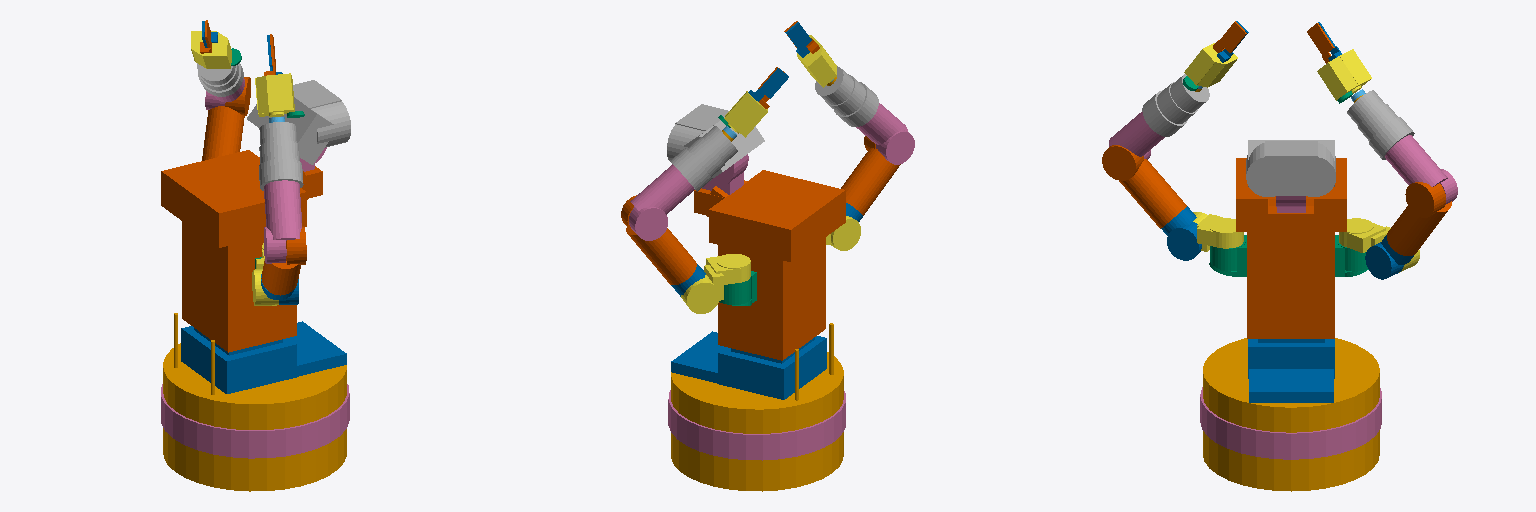
--- Render facts (derived) ---
Views: 3 orthographic renders of the robot side by side, from view 1: azimuth 30°, elevation 25°; view 2: azimuth 150°, elevation 25°; view 3: azimuth 270°, elevation 25°.
Model [local-path]/ros_projects/cohan_ws/src/CoHAN_Navigation/simulato with 90 links and 89 joints (16 revolute, 10 continuous, 5 prismatic, 58 fixed), rooted at base_link, posed every joint at zero.
Visible links, largest first — view 1: torso_lift_link, base_link, Torso, base_cover_link, head_2_link, arm_right_4_link, arm_right_5_link, arm_left_3_link, arm_right_3_link, right, arm_left_5_link, left (+1 smaller); view 2: torso_lift_link, base_link, Torso, base_cover_link, arm_left_4_link, head_2_link, TIAGo_left_arm, arm_left_5_link, arm_left_3_link, arm_right_5_link, arm_right_3_link, arm_right_4_link (+6 smaller); view 3: base_link, torso_lift_link, Torso, base_cover_link, head_2_link, arm_right_3_link, arm_left_3_link, arm_right_5_link, arm_left_5_link, arm_left_4_link, left, TIAGo_right_arm (+8 smaller).
Boxes of the visible links, bbox=[...] form: torso_lift_link: bbox=[161, 150, 322, 352]; base_link: bbox=[163, 313, 346, 491]; Torso: bbox=[181, 321, 346, 393]; base_cover_link: bbox=[161, 384, 349, 458]; head_2_link: bbox=[247, 80, 350, 164]; arm_right_4_link: bbox=[264, 180, 301, 263]; arm_right_5_link: bbox=[259, 122, 303, 190]; arm_left_3_link: bbox=[202, 77, 250, 160]; arm_right_3_link: bbox=[261, 226, 306, 295]; right: bbox=[255, 73, 294, 116]; arm_left_5_link: bbox=[197, 63, 243, 96]; left: bbox=[191, 31, 231, 68]; torso_lift_link: bbox=[694, 170, 845, 360]; base_link: bbox=[671, 323, 843, 491]; Torso: bbox=[671, 331, 826, 399]; base_cover_link: bbox=[668, 390, 845, 460]; arm_left_4_link: bbox=[629, 164, 694, 240]; head_2_link: bbox=[667, 104, 764, 177]; TIAGo_left_arm: bbox=[681, 254, 750, 313]; arm_left_5_link: bbox=[670, 126, 737, 191]; arm_left_3_link: bbox=[621, 195, 696, 284]; arm_right_5_link: bbox=[815, 66, 878, 126]; arm_right_3_link: bbox=[841, 136, 900, 215]; arm_right_4_link: bbox=[856, 103, 914, 164]; base_link: bbox=[1203, 338, 1379, 491]; torso_lift_link: bbox=[1236, 158, 1346, 338]; Torso: bbox=[1248, 339, 1334, 402]; base_cover_link: bbox=[1200, 387, 1381, 459]; head_2_link: bbox=[1246, 140, 1335, 196]; arm_right_3_link: bbox=[1102, 145, 1186, 228]; arm_left_3_link: bbox=[1387, 182, 1451, 255]; arm_right_5_link: bbox=[1142, 74, 1209, 136]; arm_left_5_link: bbox=[1347, 90, 1414, 159]; arm_left_4_link: bbox=[1385, 135, 1457, 204]; left: bbox=[1317, 49, 1371, 100]; TIAGo_right_arm: bbox=[1193, 212, 1243, 251].
Size in the robot's own frame: 0.544 by 1.06 by 1.43 metres.
Geometry: primitives only (box / cylinder / sphere), no mesh files.

The robot description file, URDF, robot "[local-path]/ros_projects/cohan_ws/src/CoHAN_Navigation/simulato":
<?xml version="1.0"?>
<robot name="[local-path]/ros_projects/cohan_ws/src/CoHAN_Navigation/simulators/webots_ros/urdf/Tiago++.urdf" xmlns:xacro="http://ros.org/wiki/xacro">
  <link name="base_link">
    <visual>
      <origin xyz="0 0 0.06" rpy="0 0 0"/>
      <geometry>
        <cylinder radius="0.265" length="0.276"/>
      </geometry>
    </visual>
    <collision>
      <origin xyz="0 0 0.06" rpy="0 0 0"/>
      <geometry>
        <cylinder radius="0.265" length="0.276"/>
      </geometry>
    </collision>
    <visual>
      <origin xyz="-0.201 0.1062 0.28" rpy="0 0 0"/>
      <geometry>
        <cylinder radius="0.007" length="0.173"/>
      </geometry>
    </visual>
    <collision>
      <origin xyz="-0.201 0.1062 0.28" rpy="0 0 0"/>
      <geometry>
        <cylinder radius="0.007" length="0.173"/>
      </geometry>
    </collision>
    <visual>
      <origin xyz="-0.201 -0.1062 0.28" rpy="0 0 0"/>
      <geometry>
        <cylinder radius="0.007" length="0.173"/>
      </geometry>
    </visual>
    <collision>
      <origin xyz="-0.201 -0.1062 0.28" rpy="0 0 0"/>
      <geometry>
        <cylinder radius="0.007" length="0.173"/>
      </geometry>
    </collision>
  </link>
  <joint name="CASTER_WHEEL_BACK_LEFT_JOINT" type="continuous">
    <parent link="base_link"/>
    <child link="caster_back_left_1_link"/>
    <axis xyz="0 0 1"/>
    <origin xyz="-0.1735 0.102 -0.0335" rpy="0 0 1.55267"/>
  </joint>
  <link name="caster_back_left_1_link">
    <visual>
      <origin xyz="-0.003 0 -0.022" rpy="0 0 0"/>
      <geometry>
        <box size="0.036 0.032 0.04"/>
      </geometry>
    </visual>
    <collision>
      <origin xyz="-0.003 0 -0.022" rpy="0 0 0"/>
      <geometry>
        <box size="0.036 0.032 0.04"/>
      </geometry>
    </collision>
  </link>
  <joint name="SMALL_WHEEL_JOINT" type="continuous">
    <parent link="caster_back_left_1_link"/>
    <child link="caster_back_left_2_link"/>
    <axis xyz="0 -0.000004 1"/>
    <origin xyz="-0.016 0 -0.04" rpy="1.570793 -1.338742 -3.141593"/>
  </joint>
  <link name="caster_back_left_2_link">
    <visual>
      <origin xyz="0 0 0" rpy="0 0 0"/>
      <geometry>
        <cylinder radius="0.025" length="0.015"/>
      </geometry>
    </visual>
    <collision>
      <origin xyz="0 0 0" rpy="0 0 0"/>
      <geometry>
        <cylinder radius="0.025" length="0.015"/>
      </geometry>
    </collision>
  </link>
  <joint name="CASTER_WHEEL_BACK_RIGHT_JOINT" type="continuous">
    <parent link="base_link"/>
    <child link="caster_back_right_1_link"/>
    <axis xyz="0 0 1"/>
    <origin xyz="-0.1735 -0.102 -0.0335" rpy="0 0 2.273064"/>
  </joint>
  <link name="caster_back_right_1_link">
    <visual>
      <origin xyz="-0.003 0 -0.022" rpy="0 0 0"/>
      <geometry>
        <box size="0.036 0.032 0.04"/>
      </geometry>
    </visual>
    <collision>
      <origin xyz="-0.003 0 -0.022" rpy="0 0 0"/>
      <geometry>
        <box size="0.036 0.032 0.04"/>
      </geometry>
    </collision>
  </link>
  <joint name="SMALL_WHEEL_JOINT_0" type="continuous">
    <parent link="caster_back_right_1_link"/>
    <child link="caster_back_right_2_link"/>
    <axis xyz="0 -0.000004 1"/>
    <origin xyz="-0.016 0 -0.04" rpy="-1.5708 -0.561437 0"/>
  </joint>
  <link name="caster_back_right_2_link">
    <visual>
      <origin xyz="0 0 0" rpy="0 0 0"/>
      <geometry>
        <cylinder radius="0.025" length="0.015"/>
      </geometry>
    </visual>
    <collision>
      <origin xyz="0 0 0" rpy="0 0 0"/>
      <geometry>
        <cylinder radius="0.025" length="0.015"/>
      </geometry>
    </collision>
  </link>
  <joint name="CASTER_WHEEL_FRONT_LEFT_JOINT" type="continuous">
    <parent link="base_link"/>
    <child link="caster_front_left_1_link"/>
    <axis xyz="0 0 1"/>
    <origin xyz="0.1695 0.102 -0.0335" rpy="0 0 -0.528726"/>
  </joint>
  <link name="caster_front_left_1_link">
    <visual>
      <origin xyz="-0.003 0 -0.022" rpy="0 0 0"/>
      <geometry>
        <box size="0.036 0.032 0.04"/>
      </geometry>
    </visual>
    <collision>
      <origin xyz="-0.003 0 -0.022" rpy="0 0 0"/>
      <geometry>
        <box size="0.036 0.032 0.04"/>
      </geometry>
    </collision>
  </link>
  <joint name="SMALL_WHEEL_JOINT_1" type="continuous">
    <parent link="caster_front_left_1_link"/>
    <child link="caster_front_left_2_link"/>
    <axis xyz="0 -0.000004 1"/>
    <origin xyz="-0.016 0 -0.04" rpy="-1.5708 -0.455607 0"/>
  </joint>
  <link name="caster_front_left_2_link">
    <visual>
      <origin xyz="0 0 0" rpy="0 0 0"/>
      <geometry>
        <cylinder radius="0.025" length="0.015"/>
      </geometry>
    </visual>
    <collision>
      <origin xyz="0 0 0" rpy="0 0 0"/>
      <geometry>
        <cylinder radius="0.025" length="0.015"/>
      </geometry>
    </collision>
  </link>
  <joint name="CASTER_WHEEL_FRONT_RIGHT_JOINT" type="continuous">
    <parent link="base_link"/>
    <child link="caster_front_right_1_link"/>
    <axis xyz="0 0 1"/>
    <origin xyz="0.1695 -0.102 -0.0335" rpy="0 0 0.462742"/>
  </joint>
  <link name="caster_front_right_1_link">
    <visual>
      <origin xyz="-0.003 0 -0.022" rpy="0 0 0"/>
      <geometry>
        <box size="0.036 0.032 0.04"/>
      </geometry>
    </visual>
    <collision>
      <origin xyz="-0.003 0 -0.022" rpy="0 0 0"/>
      <geometry>
        <box size="0.036 0.032 0.04"/>
      </geometry>
    </collision>
  </link>
  <joint name="SMALL_WHEEL_JOINT_2" type="continuous">
    <parent link="caster_front_right_1_link"/>
    <child link="caster_front_right_2_link"/>
    <axis xyz="0 -0.000004 1"/>
    <origin xyz="-0.016 0 -0.04" rpy="1.570793 0.923373 3.141593"/>
  </joint>
  <link name="caster_front_right_2_link">
    <visual>
      <origin xyz="0 0 0" rpy="0 0 0"/>
      <geometry>
        <cylinder radius="0.025" length="0.015"/>
      </geometry>
    </visual>
    <collision>
      <origin xyz="0 0 0" rpy="0 0 0"/>
      <geometry>
        <cylinder radius="0.025" length="0.015"/>
      </geometry>
    </collision>
  </link>
  <joint name="wheel_left_joint" type="continuous">
    <parent link="base_link"/>
    <child link="wheel_left_link"/>
    <axis xyz="0 -0.000004 -1"/>
    <limit effort="10" velocity="10.1523"/>
    <origin xyz="0 0.2022 0" rpy="1.5708 0.607459 0"/>
  </joint>
  <link name="wheel_left_link">
    <visual>
      <origin xyz="0 0 0.0002" rpy="0 0 0"/>
      <geometry>
        <cylinder radius="0.0985" length="0.04"/>
      </geometry>
    </visual>
    <collision>
      <origin xyz="0 0 0.0002" rpy="0 0 0"/>
      <geometry>
        <cylinder radius="0.0985" length="0.04"/>
      </geometry>
    </collision>
  </link>
  <joint name="wheel_right_joint" type="continuous">
    <parent link="base_link"/>
    <child link="wheel_right_link"/>
    <axis xyz="0 -0.000004 -1"/>
    <limit effort="10" velocity="10.1523"/>
    <origin xyz="0 -0.2022 0.0002" rpy="1.5708 0.766412 0"/>
  </joint>
  <link name="wheel_right_link">
    <visual>
      <origin xyz="0 0 -0.0002" rpy="0 0 0"/>
      <geometry>
        <cylinder radius="0.0985" length="0.04"/>
      </geometry>
    </visual>
    <collision>
      <origin xyz="0 0 -0.0002" rpy="0 0 0"/>
      <geometry>
        <cylinder radius="0.0985" length="0.04"/>
      </geometry>
    </collision>
  </link>
  <link name="base_sonar_01_link">
  </link>
  <joint name="base_link_base_sonar_01_link_joint" type="fixed">
    <parent link="base_link"/>
    <child link="base_sonar_01_link"/>
    <origin xyz="-0.183 -0.183 0.1728" rpy="0 0 -2.356185"/>
  </joint>
  <link name="base_sonar_02_link">
  </link>
  <joint name="base_link_base_sonar_02_link_joint" type="fixed">
    <parent link="base_link"/>
    <child link="base_sonar_02_link"/>
    <origin xyz="-0.259 0 0.173" rpy="0 0 -3.141585"/>
  </joint>
  <link name="base_sonar_03_link">
  </link>
  <joint name="base_link_base_sonar_03_link_joint" type="fixed">
    <parent link="base_link"/>
    <child link="base_sonar_03_link"/>
    <origin xyz="-0.183 0.183 0.173" rpy="0 0 2.3562"/>
  </joint>
  <link name="base_cover_link">
    <visual>
      <origin xyz="0 0 0.043" rpy="0 0 0"/>
      <geometry>
        <cylinder radius="0.272" length="0.086"/>
      </geometry>
    </visual>
    <collision>
      <origin xyz="0 0 0.043" rpy="0 0 0"/>
      <geometry>
        <cylinder radius="0.272" length="0.086"/>
      </geometry>
    </collision>
  </link>
  <joint name="base_link_base_cover_link_joint" type="fixed">
    <parent link="base_link"/>
    <child link="base_cover_link"/>
    <origin xyz="0.000029 -0.000005 0.029696" rpy="0 0 0.000001"/>
  </joint>
  <link name="base_footprint">
  </link>
  <joint name="base_link_base_footprint_joint" type="fixed">
    <parent link="base_link"/>
    <child link="base_footprint"/>
    <origin xyz="0 0 -0.095" rpy="0 0 0"/>
  </joint>
  <link name="gyro">
  </link>
  <joint name="base_link_gyro_joint" type="fixed">
    <parent link="base_link"/>
    <child link="gyro"/>
    <origin xyz="0 0 0" rpy="0 0 0"/>
  </joint>
  <link name="inertial unit">
  </link>
  <joint name="base_link_inertial unit_joint" type="fixed">
    <parent link="base_link"/>
    <child link="inertial unit"/>
    <origin xyz="0 0 0" rpy="0 0 0"/>
  </joint>
  <link name="accelerometer">
  </link>
  <joint name="base_link_accelerometer_joint" type="fixed">
    <parent link="base_link"/>
    <child link="accelerometer"/>
    <origin xyz="0 0 0" rpy="0 0 0"/>
  </joint>
  <link name="Hokuyo URG-04LX-UG01">
    <visual>
      <origin xyz="0 0 -0.018" rpy="1.570741 0.000118 -1.570741"/>
      <geometry>
        <box size="0.05 0.07 0.05"/>
      </geometry>
    </visual>
    <collision>
      <origin xyz="0 0 -0.018" rpy="1.570741 0.000118 -1.570741"/>
      <geometry>
        <box size="0.05 0.07 0.05"/>
      </geometry>
    </collision>
  </link>
  <joint name="base_link_Hokuyo URG-04LX-UG01_joint" type="fixed">
    <parent link="base_link"/>
    <child link="Hokuyo URG-04LX-UG01"/>
    <origin xyz="0.202 0 -0.004" rpy="0 0 0"/>
  </joint>
  <link name="Torso">
    <visual>
      <origin xyz="0 0 0.275" rpy="0 0 0"/>
      <geometry>
        <box size="0.18 0.2 0.55"/>
      </geometry>
    </visual>
    <collision>
      <origin xyz="0 0 0.275" rpy="0 0 0"/>
      <geometry>
        <box size="0.18 0.2 0.55"/>
      </geometry>
    </collision>
    <visual>
      <origin xyz="0.085 0 0.02" rpy="0 0 0"/>
      <geometry>
        <box size="0.4 0.254 0.04"/>
      </geometry>
    </visual>
    <collision>
      <origin xyz="0.085 0 0.02" rpy="0 0 0"/>
      <geometry>
        <box size="0.4 0.254 0.04"/>
      </geometry>
    </collision>
    <visual>
      <origin xyz="0.001 0 0.05" rpy="0 0 0"/>
      <geometry>
        <box size="0.233 0.26 0.12"/>
      </geometry>
    </visual>
    <collision>
      <origin xyz="0.001 0 0.05" rpy="0 0 0"/>
      <geometry>
        <box size="0.233 0.26 0.12"/>
      </geometry>
    </collision>
  </link>
  <joint name="base_link_Torso_joint" type="fixed">
    <parent link="base_link"/>
    <child link="Torso"/>
    <origin xyz="-0.054 0 0.193" rpy="0 0 0"/>
  </joint>
  <joint name="torso_lift_joint" type="prismatic">
    <parent link="Torso"/>
    <child link="torso_lift_link"/>
    <axis xyz="0 0 1"/>
    <origin xyz="0 0 0.6" rpy="0 0 0"/>
    <limit effort="2000" lower="0" upper="0.35" velocity="0.07"/>
  </joint>
  <link name="torso_lift_link">
    <visual>
      <origin xyz="0.164 0 -0.032427" rpy="0 0 0"/>
      <geometry>
        <box size="0.15 0.138 0.074"/>
      </geometry>
    </visual>
    <collision>
      <origin xyz="0.164 0 -0.032427" rpy="0 0 0"/>
      <geometry>
        <box size="0.15 0.138 0.074"/>
      </geometry>
    </collision>
    <visual>
      <origin xyz="0.1389 0 -0.043627" rpy="0 -0.43 0"/>
      <geometry>
        <box size="0.12 0.134 0.097"/>
      </geometry>
    </visual>
    <collision>
      <origin xyz="0.1389 0 -0.043627" rpy="0 -0.43 0"/>
      <geometry>
        <box size="0.12 0.134 0.097"/>
      </geometry>
    </collision>
    <visual>
      <origin xyz="-0.016 0 -0.050427" rpy="0 0 0"/>
      <geometry>
        <box size="0.291 0.333 0.11"/>
      </geometry>
    </visual>
    <collision>
      <origin xyz="-0.016 0 -0.050427" rpy="0 0 0"/>
      <geometry>
        <box size="0.291 0.333 0.11"/>
      </geometry>
    </collision>
    <visual>
      <origin xyz="0.003 0 -0.283427" rpy="0 0 0"/>
      <geometry>
        <box size="0.228 0.263 0.358"/>
      </geometry>
    </visual>
    <collision>
      <origin xyz="0.003 0 -0.283427" rpy="0 0 0"/>
      <geometry>
        <box size="0.228 0.263 0.358"/>
      </geometry>
    </collision>
  </link>
  <joint name="head_1_joint" type="revolute">
    <parent link="torso_lift_link"/>
    <child link="head_1_link"/>
    <axis xyz="0 0 1"/>
    <limit effort="5.197" lower="-1.24" upper="1.24" velocity="3"/>
    <origin xyz="0.182 0 -0.000427" rpy="0 0 0"/>
  </joint>
  <link name="head_1_link">
    <visual>
      <origin xyz="0.01 0 0.097" rpy="-1.5708 0 0"/>
      <geometry>
        <cylinder radius="0.082" length="0.09"/>
      </geometry>
    </visual>
    <collision>
      <origin xyz="0.01 0 0.097" rpy="-1.5708 0 0"/>
      <geometry>
        <cylinder radius="0.082" length="0.09"/>
      </geometry>
    </collision>
    <visual>
      <origin xyz="-0.005 0 0.005" rpy="0 0 0"/>
      <geometry>
        <box size="0.103 0.088 0.103"/>
      </geometry>
    </visual>
    <collision>
      <origin xyz="-0.005 0 0.005" rpy="0 0 0"/>
      <geometry>
        <box size="0.103 0.088 0.103"/>
      </geometry>
    </collision>
  </link>
  <joint name="head_2_joint" type="revolute">
    <parent link="head_1_link"/>
    <child link="head_2_link"/>
    <axis xyz="0 0.000004 1"/>
    <limit effort="2.77" lower="-0.98" upper="0.79" velocity="3"/>
    <origin xyz="0.005 0 0.098" rpy="1.5708 0 0"/>
  </joint>
  <link name="head_2_link">
    <visual>
      <origin xyz="-0.009 0.0466 0" rpy="0 0 -0.7"/>
      <geometry>
        <box size="0.092 0.132 0.26"/>
      </geometry>
    </visual>
    <collision>
      <origin xyz="-0.009 0.0466 0" rpy="0 0 -0.7"/>
      <geometry>
        <box size="0.092 0.132 0.26"/>
      </geometry>
    </collision>
    <visual>
      <origin xyz="0.008 -0.019 0" rpy="0 0 -1.5708"/>
      <geometry>
        <cylinder radius="0.03" length="0.132"/>
      </geometry>
    </visual>
    <collision>
      <origin xyz="0.008 -0.019 0" rpy="0 0 -1.5708"/>
      <geometry>
        <cylinder radius="0.03" length="0.132"/>
      </geometry>
    </collision>
    <visual>
      <origin xyz="0.054 0.06 0" rpy="0 0 0"/>
      <geometry>
        <box size="0.111 0.13 0.16"/>
      </geometry>
    </visual>
    <collision>
      <origin xyz="0.054 0.06 0" rpy="0 0 0"/>
      <geometry>
        <box size="0.111 0.13 0.16"/>
      </geometry>
    </collision>
    <visual>
      <origin xyz="0.053 0.056 -0.068" rpy="3.141593 -1.570793 3.141593"/>
      <geometry>
        <cylinder radius="0.0667" length="0.111"/>
      </geometry>
    </visual>
    <collision>
      <origin xyz="0.053 0.056 -0.068" rpy="3.141593 -1.570793 3.141593"/>
      <geometry>
        <cylinder radius="0.0667" length="0.111"/>
      </geometry>
    </collision>
    <visual>
      <origin xyz="0.053 0.056 0.068" rpy="3.141593 -1.570793 3.141593"/>
      <geometry>
        <cylinder radius="0.0667" length="0.111"/>
      </geometry>
    </visual>
    <collision>
      <origin xyz="0.053 0.056 0.068" rpy="3.141593 -1.570793 3.141593"/>
      <geometry>
        <cylinder radius="0.0667" length="0.111"/>
      </geometry>
    </collision>
  </link>
  <link name="camera_color">
  </link>
  <joint name="head_2_link_camera_color_joint" type="fixed">
    <parent link="head_2_link"/>
    <child link="camera_color"/>
    <origin xyz="0.107 0.0802 0" rpy="-1.570796 0 -1.570796"/>
  </joint>
  <link name="camera_depth">
  </link>
  <joint name="head_2_link_camera_depth_joint" type="fixed">
    <parent link="head_2_link"/>
    <child link="camera_depth"/>
    <origin xyz="0.107 0.0802 0" rpy="0 0 0"/>
  </joint>
  <link name="TIAGo left arm">
    <visual>
      <origin xyz="0.026 0.14 -0.232" rpy="0 0 1.5708"/>
      <geometry>
        <box size="0.042 0.094 0.094"/>
      </geometry>
    </visual>
    <collision>
      <origin xyz="0.026 0.14 -0.232" rpy="0 0 1.5708"/>
      <geometry>
        <box size="0.042 0.094 0.094"/>
      </geometry>
    </collision>
    <visual>
      <origin xyz="0.0256 0.1868 -0.2661" rpy="0.000017 -0.261844 1.570779"/>
      <geometry>
        <cylinder radius="0.053" length="0.016"/>
      </geometry>
    </visual>
    <collision>
      <origin xyz="0.0256 0.1868 -0.2661" rpy="0.000017 -0.261844 1.570779"/>
      <geometry>
        <cylinder radius="0.053" length="0.016"/>
      </geometry>
    </collision>
    <visual>
      <origin xyz="0.026 0.19 -0.221" rpy="0 0 0"/>
      <geometry>
        <cylinder radius="0.053" length="0.075"/>
      </geometry>
    </visual>
    <collision>
      <origin xyz="0.026 0.19 -0.221" rpy="0 0 0"/>
      <geometry>
        <cylinder radius="0.053" length="0.075"/>
      </geometry>
    </collision>
  </link>
  <joint name="torso_lift_link_TIAGo left arm_joint" type="fixed">
    <parent link="torso_lift_link"/>
    <child link="TIAGo left arm"/>
    <origin xyz="0 0 0" rpy="0 0 0"/>
  </joint>
  <joint name="arm_left_1_joint" type="revolute">
    <parent link="TIAGo left arm"/>
    <child link="TIAGo_left_arm"/>
    <axis xyz="0 0 -1"/>
    <limit effort="43" lower="-1.11" upper="1.5" velocity="1.95"/>
    <origin xyz="0.025 0.194 -0.16" rpy="0 0 0.830851"/>
  </joint>
  <link name="TIAGo_left_arm">
    <visual>
      <origin xyz="0 -0.0001 0.002" rpy="0 0 0"/>
      <geometry>
        <cylinder radius="0.0522" length="0.052"/>
      </geometry>
    </visual>
    <collision>
      <origin xyz="0 -0.0001 0.002" rpy="0 0 0"/>
      <geometry>
        <cylinder radius="0.0522" length="0.052"/>
      </geometry>
    </collision>
    <visual>
      <origin xyz="0.033 0.0009 0.001" rpy="0 0 0"/>
      <geometry>
        <box size="0.08 0.1044 0.048"/>
      </geometry>
    </visual>
    <collision>
      <origin xyz="0.033 0.0009 0.001" rpy="0 0 0"/>
      <geometry>
        <box size="0.08 0.1044 0.048"/>
      </geometry>
    </collision>
    <visual>
      <origin xyz="0.072 0.0289 -0.023" rpy="0 0 0"/>
      <geometry>
        <box size="0.035 0.09 0.081"/>
      </geometry>
    </visual>
    <collision>
      <origin xyz="0.072 0.0289 -0.023" rpy="0 0 0"/>
      <geometry>
        <box size="0.035 0.09 0.081"/>
      </geometry>
    </collision>
    <visual>
      <origin xyz="0.125 0.0529 -0.042" rpy="-1.5708 0 0"/>
      <geometry>
        <cylinder radius="0.053" length="0.069"/>
      </geometry>
    </visual>
    <collision>
      <origin xyz="0.125 0.0529 -0.042" rpy="-1.5708 0 0"/>
      <geometry>
        <cylinder radius="0.053" length="0.069"/>
      </geometry>
    </collision>
  </link>
  <joint name="arm_left_2_joint" type="revolute">
    <parent link="TIAGo_left_arm"/>
    <child link="arm_left_2_link"/>
    <axis xyz="0 -0.000004 -1"/>
    <limit effort="43" lower="-1.11" upper="1.5" velocity="1.95"/>
    <origin xyz="0.125 0.0194 -0.042" rpy="1.5708 -0.94999 0"/>
  </joint>
  <link name="arm_left_2_link">
    <visual>
      <origin xyz="0.056 0 -0.0005" rpy="3.141593 1.570793 3.141593"/>
      <geometry>
        <cylinder radius="0.052" length="0.048"/>
      </geometry>
    </visual>
    <collision>
      <origin xyz="0.056 0 -0.0005" rpy="3.141593 1.570793 3.141593"/>
      <geometry>
        <cylinder radius="0.052" length="0.048"/>
      </geometry>
    </collision>
    <visual>
      <origin xyz="0 0 0.0295" rpy="0 0 0"/>
      <geometry>
        <cylinder radius="0.053" length="0.057"/>
      </geometry>
    </visual>
    <collision>
      <origin xyz="0 0 0.0295" rpy="0 0 0"/>
      <geometry>
        <cylinder radius="0.053" length="0.057"/>
      </geometry>
    </collision>
  </link>
  <joint name="arm_left_3_joint" type="revolute">
    <parent link="arm_left_2_link"/>
    <child link="arm_left_3_link"/>
    <axis xyz="-0.000061 -0.000061 -1"/>
    <limit effort="26" lower="-0.72" upper="3.86" velocity="2.35"/>
    <origin xyz="0.0895 0 0" rpy="1.570853 0.059899 -1.570857"/>
  </joint>
  <link name="arm_left_3_link">
    <visual>
      <origin xyz="0 0 -0.1037" rpy="0 0 0"/>
      <geometry>
        <cylinder radius="0.053" length="0.23"/>
      </geometry>
    </visual>
    <collision>
      <origin xyz="0 0 -0.1037" rpy="0 0 0"/>
      <geometry>
        <cylinder radius="0.053" length="0.23"/>
      </geometry>
    </collision>
    <visual>
      <origin xyz="-0.0169 0.03 -0.2187" rpy="-1.5708 0 0"/>
      <geometry>
        <cylinder radius="0.056" length="0.056"/>
      </geometry>
    </visual>
    <collision>
      <origin xyz="-0.0169 0.03 -0.2187" rpy="-1.5708 0 0"/>
      <geometry>
        <cylinder radius="0.056" length="0.056"/>
      </geometry>
    </collision>
  </link>
  <joint name="arm_left_4_joint" type="revolute">
    <parent link="arm_left_3_link"/>
    <child link="arm_left_4_link"/>
    <axis xyz="0.000003 -0.000003 1"/>
    <limit effort="26" lower="-0.32" upper="2.29" velocity="2.35"/>
    <origin xyz="-0.02 -0.027 -0.2197" rpy="-1.570799 -0.011032 0.000003"/>
  </joint>
  <link name="arm_left_4_link">
    <visual>
      <origin xyz="0 0.001 -0.002" rpy="0 0 0"/>
      <geometry>
        <cylinder radius="0.054" length="0.056"/>
      </geometry>
    </visual>
    <collision>
      <origin xyz="0 0.001 -0.002" rpy="0 0 0"/>
      <geometry>
        <cylinder radius="0.054" length="0.056"/>
      </geometry>
    </collision>
    <visual>
      <origin xyz="-0.093 0.019 0.027" rpy="3.141593 -1.570793 3.141593"/>
      <geometry>
        <cylinder radius="0.052" length="0.191"/>
      </geometry>
    </visual>
    <collision>
      <origin xyz="-0.093 0.019 0.027" rpy="3.141593 -1.570793 3.141593"/>
      <geometry>
        <cylinder radius="0.052" length="0.191"/>
      </geometry>
    </collision>
  </link>
  <joint name="arm_left_5_joint" type="revolute">
    <parent link="arm_left_4_link"/>
    <child link="arm_left_5_link"/>
    <axis xyz="-0.000004 0 -1"/>
    <limit effort="3" lower="-2.07" upper="2.07" velocity="1.95"/>
    <origin xyz="-0.162 0.02 0.027" rpy="1.570797 -0.120814 -1.5708"/>
  </joint>
  <link name="arm_left_5_link">
    <visual>
      <origin xyz="0 0 0.04" rpy="0 0 0"/>
      <geometry>
        <cylinder radius="0.063" length="0.062"/>
      </geometry>
    </visual>
    <collision>
      <origin xyz="0 0 0.04" rpy="0 0 0"/>
      <geometry>
        <cylinder radius="0.063" length="0.062"/>
      </geometry>
    </collision>
    <visual>
      <origin xyz="0 0 0.099" rpy="0 0 0"/>
      <geometry>
        <cylinder radius="0.057" length="0.06"/>
      </geometry>
    </visual>
    <collision>
      <origin xyz="0 0 0.099" rpy="0 0 0"/>
      <geometry>
        <cylinder radius="0.057" length="0.06"/>
      </geometry>
    </collision>
    <visual>
      <origin xyz="0 0 0.156" rpy="0 0 0"/>
      <geometry>
        <cylinder radius="0.053" length="0.06"/>
      </geometry>
    </visual>
    <collision>
      <origin xyz="0 0 0.156" rpy="0 0 0"/>
      <geometry>
        <cylinder radius="0.053" length="0.06"/>
      </geometry>
    </collision>
  </link>
  <joint name="arm_left_6_joint" type="revolute">
    <parent link="arm_left_5_link"/>
    <child link="arm_left_6_link"/>
    <axis xyz="-0.000003 0.000003 -1"/>
    <limit effort="6.6" lower="-1.39" upper="1.39" velocity="1.76"/>
    <origin xyz="0 0 0.15" rpy="1.570811 -1.408969 3.141575"/>
  </joint>
  <link name="arm_left_6_link">
    <visual>
      <origin xyz="0.0409 0 0" rpy="3.141593 -1.570793 3.141593"/>
      <geometry>
        <cylinder radius="0.0226" length="0.013"/>
      </geometry>
    </visual>
    <collision>
      <origin xyz="0.0409 0 0" rpy="3.141593 -1.570793 3.141593"/>
      <geometry>
        <cylinder radius="0.0226" length="0.013"/>
      </geometry>
    </collision>
  </link>
  <joint name="arm_left_7_joint" type="revolute">
    <parent link="arm_left_6_link"/>
    <child link="arm_left_7_link"/>
    <axis xyz="0.000003 -0.000003 -1"/>
    <limit effort="6.6" lower="-2.07" upper="2.07" velocity="1.76"/>
    <origin xyz="0 0 0" rpy="1.570799 -0.000002 1.570799"/>
  </joint>
  <link name="arm_left_7_link">
    <visual>
      <origin xyz="0 0 0.055" rpy="0 0 0"/>
      <geometry>
        <cylinder radius="0.0225" length="0.0157"/>
      </geometry>
    </visual>
    <collision>
      <origin xyz="0 0 0.055" rpy="0 0 0"/>
      <geometry>
        <cylinder radius="0.0225" length="0.0157"/>
      </geometry>
    </collision>
  </link>
  <link name="wrist_left_ft_tool_link">
    <visual>
      <origin xyz="0 0 0.055" rpy="3.141593 -1.570793 3.141593"/>
      <geometry>
        <cylinder radius="0.0253" length="0.011"/>
      </geometry>
    </visual>
    <collision>
      <origin xyz="0 0 0.055" rpy="3.141593 -1.570793 3.141593"/>
      <geometry>
        <cylinder radius="0.0253" length="0.011"/>
      </geometry>
    </collision>
  </link>
  <joint name="arm_left_7_link_wrist_left_ft_tool_link_joint" type="fixed">
    <parent link="arm_left_7_link"/>
    <child link="wrist_left_ft_tool_link"/>
    <origin xyz="0 0 0.067725" rpy="2.356193 -1.570792 2.356193"/>
  </joint>
  <link name="left">
    <visual>
      <origin xyz="0 0 0" rpy="0 0 0"/>
      <geometry>
        <cylinder radius="0.0227" length="0.028"/>
      </geometry>
    </visual>
    <collision>
      <origin xyz="0 0 0" rpy="0 0 0"/>
      <geometry>
        <cylinder radius="0.0227" length="0.028"/>
      </geometry>
    </collision>
    <visual>
      <origin xyz="0.029 -0.01834 -0.046" rpy="0 0 0.59"/>
      <geometry>
        <box size="0.04 0.0217 0.105"/>
      </geometry>
    </visual>
    <collision>
      <origin xyz="0.029 -0.01834 -0.046" rpy="0 0 0.59"/>
      <geometry>
        <box size="0.04 0.0217 0.105"/>
      </geometry>
    </collision>
    <visual>
      <origin xyz="-0.029 0.01834 -0.046" rpy="0 0 0.59"/>
      <geometry>
        <box size="0.04 0.0217 0.105"/>
      </geometry>
    </visual>
    <collision>
      <origin xyz="-0.029 0.01834 -0.046" rpy="0 0 0.59"/>
      <geometry>
        <box size="0.04 0.0217 0.105"/>
      </geometry>
    </collision>
    <visual>
      <origin xyz="0.0172 0.0109 -0.046" rpy="3.141593 -1.570793 3.141593"/>
      <geometry>
        <box size="0.106 0.056 0.071"/>
      </geometry>
    </visual>
    <collision>
      <origin xyz="0.0172 0.0109 -0.046" rpy="3.141593 -1.570793 3.141593"/>
      <geometry>
        <box size="0.106 0.056 0.071"/>
      </geometry>
    </collision>
    <visual>
      <origin xyz="-0.0172 -0.0109 -0.046" rpy="3.141593 -1.570793 3.141593"/>
      <geometry>
        <box size="0.106 0.056 0.071"/>
      </geometry>
    </visual>
    <collision>
      <origin xyz="-0.0172 -0.0109 -0.046" rpy="3.141593 -1.570793 3.141593"/>
      <geometry>
        <box size="0.106 0.056 0.071"/>
      </geometry>
    </collision>
  </link>
  <joint name="wrist_left_ft_tool_link_left_joint" type="fixed">
    <parent link="wrist_left_ft_tool_link"/>
    <child link="left"/>
    <origin xyz="0.016 0 0" rpy="-2.356193 1.570792 0.785393"/>
  </joint>
  <joint name="left_hand_gripper_right_finger_joint" type="prismatic">
    <parent link="left"/>
    <child link="gripper_right_finger_link"/>
    <axis xyz="1 0 0"/>
    <origin xyz="0 0 0" rpy="0 0 0"/>
    <limit effort="16" lower="0" upper="0.045" velocity="0.05"/>
  </joint>
  <link name="gripper_right_finger_link">
    <visual>
      <origin xyz="0.004 0 -0.1741" rpy="0 0 0"/>
      <geometry>
        <box size="0.0076 0.05091 0.08982"/>
      </geometry>
    </visual>
    <collision>
      <origin xyz="0.004 0 -0.1741" rpy="0 0 0"/>
      <geometry>
        <box size="0.0076 0.05091 0.08982"/>
      </geometry>
    </collision>
    <visual>
      <origin xyz="0.0049 0.0153 -0.1208" rpy="0 0 0"/>
      <geometry>
        <box size="0.0055 0.0295 0.018"/>
      </geometry>
    </visual>
    <collision>
      <origin xyz="0.0049 0.0153 -0.1208" rpy="0 0 0"/>
      <geometry>
        <box size="0.0055 0.0295 0.018"/>
      </geometry>
    </collision>
    <visual>
      <origin xyz="-0.0085 0.0156 -0.1048" rpy="0 0 0"/>
      <geometry>
        <box size="0.03213 0.02959 0.01487"/>
      </geometry>
    </visual>
    <collision>
      <origin xyz="-0.0085 0.0156 -0.1048" rpy="0 0 0"/>
      <geometry>
        <box size="0.03213 0.02959 0.01487"/>
      </geometry>
    </collision>
  </link>
  <joint name="left_hand_gripper_left_finger_joint" type="prismatic">
    <parent link="left"/>
    <child link="gripper_left_finger_link"/>
    <axis xyz="1 0.000093 0"/>
    <origin xyz="0 0 0" rpy="0 0 3.1415"/>
    <limit effort="16" lower="0" upper="0.045" velocity="0.05"/>
  </joint>
  <link name="gripper_left_finger_link">
    <visual>
      <origin xyz="0.004 0 -0.1741" rpy="0 0 0"/>
      <geometry>
        <box size="0.0076 0.05091 0.08982"/>
      </geometry>
    </visual>
    <collision>
      <origin xyz="0.004 0 -0.1741" rpy="0 0 0"/>
      <geometry>
        <box size="0.0076 0.05091 0.08982"/>
      </geometry>
    </collision>
    <visual>
      <origin xyz="0.0049 0.0153 -0.1208" rpy="0 0 0"/>
      <geometry>
        <box size="0.0055 0.0295 0.018"/>
      </geometry>
    </visual>
    <collision>
      <origin xyz="0.0049 0.0153 -0.1208" rpy="0 0 0"/>
      <geometry>
        <box size="0.0055 0.0295 0.018"/>
      </geometry>
    </collision>
    <visual>
      <origin xyz="-0.0085 0.0156 -0.1048" rpy="0 0 0"/>
      <geometry>
        <box size="0.03213 0.02959 0.01487"/>
      </geometry>
    </visual>
    <collision>
      <origin xyz="-0.0085 0.0156 -0.1048" rpy="0 0 0"/>
      <geometry>
        <box size="0.03213 0.02959 0.01487"/>
      </geometry>
    </collision>
  </link>
  <link name="cap screw(19)">
  </link>
  <joint name="left_cap screw(19)_joint" type="fixed">
    <parent link="left"/>
    <child link="cap screw(19)"/>
    <origin xyz="0.0415 -0.0029 -0.0004" rpy="3.14159 0 0"/>
  </joint>
  <link name="cap screw(18)">
  </link>
  <joint name="left_cap screw(18)_joint" type="fixed">
    <parent link="left"/>
    <child link="cap screw(18)"/>
    <origin xyz="-0.0415 0.0029 -0.0004" rpy="3.14159 0 0"/>
  </joint>
  <link name="cap screw(17)">
  </link>
  <joint name="left_cap screw(17)_joint" type="fixed">
    <parent link="left"/>
    <child link="cap screw(17)"/>
    <origin xyz="0.0433 0.0315 0.0026" rpy="3.14159 0 0"/>
  </joint>
  <link name="cap screw(16)">
  </link>
  <joint name="left_cap screw(16)_joint" type="fixed">
    <parent link="left"/>
    <child link="cap screw(16)"/>
    <origin xyz="-0.0433 -0.0315 0.0026" rpy="3.14159 0 0"/>
  </joint>
  <link name="cap screw(15)">
  </link>
  <joint name="left_cap screw(15)_joint" type="fixed">
    <parent link="left"/>
    <child link="cap screw(15)"/>
    <origin xyz="0 0.033 0.0026" rpy="3.14159 0 0"/>
  </joint>
  <link name="cap screw(14)">
  </link>
  <joint name="left_cap screw(14)_joint" type="fixed">
    <parent link="left"/>
    <child link="cap screw(14)"/>
    <origin xyz="0 -0.033 0.0026" rpy="3.14159 0 0"/>
  </joint>
  <link name="cap screw(13)">
  </link>
  <joint name="left_cap screw(13)_joint" type="fixed">
    <parent link="left"/>
    <child link="cap screw(13)"/>
    <origin xyz="0.0426 -0.0094 -0.09448" rpy="0 0 0"/>
  </joint>
  <link name="cap screw(12)">
  </link>
  <joint name="left_cap screw(12)_joint" type="fixed">
    <parent link="left"/>
    <child link="cap screw(12)"/>
    <origin xyz="-0.0425 0.0094 -0.0945" rpy="0 0 0"/>
  </joint>
  <link name="cap screw(11)">
  </link>
  <joint name="left_cap screw(11)_joint" type="fixed">
    <parent link="left"/>
    <child link="cap screw(11)"/>
    <origin xyz="-0.0477 -0.008 -0.0108" rpy="3.141593 1.570793 3.141593"/>
  </joint>
  <link name="cap screw(10)">
  </link>
  <joint name="left_cap screw(10)_joint" type="fixed">
    <parent link="left"/>
    <child link="cap screw(10)"/>
    <origin xyz="-0.0477 -0.008 -0.043" rpy="3.141593 1.570793 3.141593"/>
  </joint>
  <link name="cap screw(9)">
  </link>
  <joint name="left_cap screw(9)_joint" type="fixed">
    <parent link="left"/>
    <child link="cap screw(9)"/>
    <origin xyz="-0.0477 -0.008 -0.075" rpy="3.141593 1.570793 3.141593"/>
  </joint>
  <link name="cap screw(8)">
  </link>
  <joint name="left_cap screw(8)_joint" type="fixed">
    <parent link="left"/>
    <child link="cap screw(8)"/>
    <origin xyz="-0.0477 0.008 -0.075" rpy="3.141593 1.570793 3.141593"/>
  </joint>
  <link name="cap screw(7)">
  </link>
  <joint name="left_cap screw(7)_joint" type="fixed">
    <parent link="left"/>
    <child link="cap screw(7)"/>
    <origin xyz="-0.0477 0.008 -0.043" rpy="3.141593 1.570793 3.141593"/>
  </joint>
  <link name="cap screw(6)">
  </link>
  <joint name="left_cap screw(6)_joint" type="fixed">
    <parent link="left"/>
    <child link="cap screw(6)"/>
    <origin xyz="-0.0477 0.008 -0.0108" rpy="3.141593 1.570793 3.141593"/>
  </joint>
  <link name="cap screw(5)">
  </link>
  <joint name="left_cap screw(5)_joint" type="fixed">
    <parent link="left"/>
    <child link="cap screw(5)"/>
    <origin xyz="0.0477 -0.008 -0.0108" rpy="3.141593 -1.570793 3.141593"/>
  </joint>
  <link name="cap screw(4)">
  </link>
  <joint name="left_cap screw(4)_joint" type="fixed">
    <parent link="left"/>
    <child link="cap screw(4)"/>
    <origin xyz="0.0477 -0.008 -0.043" rpy="3.141593 -1.570793 3.141593"/>
  </joint>
  <link name="cap screw(3)">
  </link>
  <joint name="left_cap screw(3)_joint" type="fixed">
    <parent link="left"/>
    <child link="cap screw(3)"/>
    <origin xyz="0.0477 -0.008 -0.075" rpy="3.141593 -1.570793 3.141593"/>
  </joint>
  <link name="cap screw(2)">
  </link>
  <joint name="left_cap screw(2)_joint" type="fixed">
    <parent link="left"/>
    <child link="cap screw(2)"/>
    <origin xyz="0.0477 0.008 -0.075" rpy="3.141593 -1.570793 3.141593"/>
  </joint>
  <link name="cap screw(1)">
  </link>
  <joint name="left_cap screw(1)_joint" type="fixed">
    <parent link="left"/>
    <child link="cap screw(1)"/>
    <origin xyz="0.0477 0.008 -0.043" rpy="3.141593 -1.570793 3.141593"/>
  </joint>
  <link name="cap screw">
  </link>
  <joint name="left_cap screw_joint" type="fixed">
    <parent link="left"/>
    <child link="cap screw"/>
    <origin xyz="0.0477 0.008 -0.0108" rpy="3.141593 -1.570793 3.141593"/>
  </joint>
  <link name="TIAGo right arm">
    <visual>
      <origin xyz="0.026 -0.14 -0.232" rpy="0 0 1.5708"/>
      <geometry>
        <box size="0.042 0.094 0.094"/>
      </geometry>
    </visual>
    <collision>
      <origin xyz="0.026 -0.14 -0.232" rpy="0 0 1.5708"/>
      <geometry>
        <box size="0.042 0.094 0.094"/>
      </geometry>
    </collision>
    <visual>
      <origin xyz="0.0256 -0.1917 -0.2641" rpy="-0.000009 0.261798 1.570805"/>
      <geometry>
        <cylinder radius="0.053" length="0.016"/>
      </geometry>
    </visual>
    <collision>
      <origin xyz="0.0256 -0.1917 -0.2641" rpy="-0.000009 0.261798 1.570805"/>
      <geometry>
        <cylinder radius="0.053" length="0.016"/>
      </geometry>
    </collision>
    <visual>
      <origin xyz="0.026 -0.189 -0.221" rpy="0 0 0"/>
      <geometry>
        <cylinder radius="0.053" length="0.075"/>
      </geometry>
    </visual>
    <collision>
      <origin xyz="0.026 -0.189 -0.221" rpy="0 0 0"/>
      <geometry>
        <cylinder radius="0.053" length="0.075"/>
      </geometry>
    </collision>
  </link>
  <joint name="torso_lift_link_TIAGo right arm_joint" type="fixed">
    <parent link="torso_lift_link"/>
    <child link="TIAGo right arm"/>
    <origin xyz="0 0 0" rpy="0 0 0.000005"/>
  </joint>
  <joint name="arm_right_1_joint" type="revolute">
    <parent link="TIAGo right arm"/>
    <child link="TIAGo_right_arm"/>
    <axis xyz="0 0 1"/>
    <limit effort="43" lower="-1.11" upper="1.5" velocity="1.95"/>
    <origin xyz="0.025 -0.194 -0.17" rpy="0 0 1.140726"/>
  </joint>
  <link name="TIAGo_right_arm">
    <visual>
      <origin xyz="0 -0.0001 0.012" rpy="0 0 0"/>
      <geometry>
        <cylinder radius="0.0522" length="0.052"/>
      </geometry>
    </visual>
    <collision>
      <origin xyz="0 -0.0001 0.012" rpy="0 0 0"/>
      <geometry>
        <cylinder radius="0.0522" length="0.052"/>
      </geometry>
    </collision>
    <visual>
      <origin xyz="-0.033 0.0009 0.011" rpy="0 0 0"/>
      <geometry>
        <box size="0.08 0.1044 0.048"/>
      </geometry>
    </visual>
    <collision>
      <origin xyz="-0.033 0.0009 0.011" rpy="0 0 0"/>
      <geometry>
        <box size="0.08 0.1044 0.048"/>
      </geometry>
    </collision>
    <visual>
      <origin xyz="-0.072 0.0289 -0.013" rpy="0 0 0"/>
      <geometry>
        <box size="0.035 0.09 0.081"/>
      </geometry>
    </visual>
    <collision>
      <origin xyz="-0.072 0.0289 -0.013" rpy="0 0 0"/>
      <geometry>
        <box size="0.035 0.09 0.081"/>
      </geometry>
    </collision>
    <visual>
      <origin xyz="-0.125 0.0529 -0.032" rpy="-1.5708 0 0"/>
      <geometry>
        <cylinder radius="0.053" length="0.069"/>
      </geometry>
    </visual>
    <collision>
      <origin xyz="-0.125 0.0529 -0.032" rpy="-1.5708 0 0"/>
      <geometry>
        <cylinder radius="0.053" length="0.069"/>
      </geometry>
    </collision>
  </link>
  <joint name="arm_right_2_joint" type="revolute">
    <parent link="TIAGo_right_arm"/>
    <child link="arm_right_2_link"/>
    <axis xyz="0 0.000004 1"/>
    <limit effort="43" lower="-1.11" upper="1.5" velocity="1.95"/>
    <origin xyz="-0.125 0.0194 -0.032" rpy="1.5708 0.769964 0"/>
  </joint>
  <link name="arm_right_2_link">
    <visual>
      <origin xyz="-0.056 0 -0.0005" rpy="3.141593 -1.570793 3.141593"/>
      <geometry>
        <cylinder radius="0.052" length="0.048"/>
      </geometry>
    </visual>
    <collision>
      <origin xyz="-0.056 0 -0.0005" rpy="3.141593 -1.570793 3.141593"/>
      <geometry>
        <cylinder radius="0.052" length="0.048"/>
      </geometry>
    </collision>
    <visual>
      <origin xyz="0 0 0.0295" rpy="0 0 0"/>
      <geometry>
        <cylinder radius="0.053" length="0.057"/>
      </geometry>
    </visual>
    <collision>
      <origin xyz="0 0 0.0295" rpy="0 0 0"/>
      <geometry>
        <cylinder radius="0.053" length="0.057"/>
      </geometry>
    </collision>
  </link>
  <joint name="arm_right_3_joint" type="revolute">
    <parent link="arm_right_2_link"/>
    <child link="arm_right_3_link"/>
    <axis xyz="-0.000003 0.000003 1"/>
    <limit effort="26" lower="-0.72" upper="3.86" velocity="2.35"/>
    <origin xyz="0.0895 0 0" rpy="1.570799 -0.000021 1.570799"/>
  </joint>
  <link name="arm_right_3_link">
    <visual>
      <origin xyz="0.000001 0.0015 -0.2821" rpy="0 0 0"/>
      <geometry>
        <cylinder radius="0.053" length="0.23"/>
      </geometry>
    </visual>
    <collision>
      <origin xyz="0.000001 0.0015 -0.2821" rpy="0 0 0"/>
      <geometry>
        <cylinder radius="0.053" length="0.23"/>
      </geometry>
    </collision>
    <visual>
      <origin xyz="0.016901 0.0315 -0.3971" rpy="-1.5708 0 0"/>
      <geometry>
        <cylinder radius="0.056" length="0.056"/>
      </geometry>
    </visual>
    <collision>
      <origin xyz="0.016901 0.0315 -0.3971" rpy="-1.5708 0 0"/>
      <geometry>
        <cylinder radius="0.056" length="0.056"/>
      </geometry>
    </collision>
  </link>
  <joint name="arm_right_4_joint" type="revolute">
    <parent link="arm_right_3_link"/>
    <child link="arm_right_4_link"/>
    <axis xyz="0.000003 0.000003 -1"/>
    <limit effort="26" lower="-0.32" upper="2.29" velocity="2.35"/>
    <origin xyz="0.020001 0.0015 -0.3991" rpy="-1.570799 0.011044 -0.000003"/>
  </joint>
  <link name="arm_right_4_link">
    <visual>
      <origin xyz="0 0.001 -0.028" rpy="0 0 0"/>
      <geometry>
        <cylinder radius="0.054" length="0.056"/>
      </geometry>
    </visual>
    <collision>
      <origin xyz="0 0.001 -0.028" rpy="0 0 0"/>
      <geometry>
        <cylinder radius="0.054" length="0.056"/>
      </geometry>
    </collision>
    <visual>
      <origin xyz="0.093 0.019 0.001" rpy="3.141593 -1.570793 3.141593"/>
      <geometry>
        <cylinder radius="0.052" length="0.191"/>
      </geometry>
    </visual>
    <collision>
      <origin xyz="0.093 0.019 0.001" rpy="3.141593 -1.570793 3.141593"/>
      <geometry>
        <cylinder radius="0.052" length="0.191"/>
      </geometry>
    </collision>
  </link>
  <joint name="arm_right_5_joint" type="revolute">
    <parent link="arm_right_4_link"/>
    <child link="arm_right_5_link"/>
    <axis xyz="0 0.000005 1"/>
    <limit effort="3" lower="-2.07" upper="2.07" velocity="1.95"/>
    <origin xyz="0.163 0.02 0.001" rpy="-1.570791 -0.160806 -1.570796"/>
  </joint>
  <link name="arm_right_5_link">
    <visual>
      <origin xyz="0 0 0.04" rpy="0 0 0"/>
      <geometry>
        <cylinder radius="0.063" length="0.062"/>
      </geometry>
    </visual>
    <collision>
      <origin xyz="0 0 0.04" rpy="0 0 0"/>
      <geometry>
        <cylinder radius="0.063" length="0.062"/>
      </geometry>
    </collision>
    <visual>
      <origin xyz="0 0 0.099" rpy="0 0 0"/>
      <geometry>
        <cylinder radius="0.057" length="0.06"/>
      </geometry>
    </visual>
    <collision>
      <origin xyz="0 0 0.099" rpy="0 0 0"/>
      <geometry>
        <cylinder radius="0.057" length="0.06"/>
      </geometry>
    </collision>
    <visual>
      <origin xyz="0 0 0.156" rpy="0 0 0"/>
      <geometry>
        <cylinder radius="0.053" length="0.06"/>
      </geometry>
    </visual>
    <collision>
      <origin xyz="0 0 0.156" rpy="0 0 0"/>
      <geometry>
        <cylinder radius="0.053" length="0.06"/>
      </geometry>
    </collision>
  </link>
  <joint name="arm_right_6_joint" type="revolute">
    <parent link="arm_right_5_link"/>
    <child link="arm_right_6_link"/>
    <axis xyz="0.000003 0.000003 -1"/>
    <limit effort="6.6" lower="-1.39" upper="1.39" velocity="1.76"/>
    <origin xyz="0 0 0.15" rpy="-1.570816 1.408972 -0.000018"/>
  </joint>
  <link name="arm_right_6_link">
    <visual>
      <origin xyz="-0.0409 0 0" rpy="3.141593 -1.570793 3.141593"/>
      <geometry>
        <cylinder radius="0.0226" length="0.013"/>
      </geometry>
    </visual>
    <collision>
      <origin xyz="-0.0409 0 0" rpy="3.141593 -1.570793 3.141593"/>
      <geometry>
        <cylinder radius="0.0226" length="0.013"/>
      </geometry>
    </collision>
  </link>
  <joint name="arm_right_7_joint" type="revolute">
    <parent link="arm_right_6_link"/>
    <child link="arm_right_7_link"/>
    <axis xyz="0.000003 -0.000003 1"/>
    <limit effort="6.6" lower="-2.07" upper="2.07" velocity="1.76"/>
    <origin xyz="0 0 0" rpy="-1.570799 0.000007 1.570799"/>
  </joint>
  <link name="arm_right_7_link">
    <visual>
      <origin xyz="0 0 0.055" rpy="0 0 0"/>
      <geometry>
        <cylinder radius="0.0225" length="0.0157"/>
      </geometry>
    </visual>
    <collision>
      <origin xyz="0 0 0.055" rpy="0 0 0"/>
      <geometry>
        <cylinder radius="0.0225" length="0.0157"/>
      </geometry>
    </collision>
  </link>
  <link name="wrist_right_ft_tool_link">
    <visual>
      <origin xyz="0 0 0.055" rpy="0 1.57 0"/>
      <geometry>
        <cylinder radius="0.0253" length="0.011"/>
      </geometry>
    </visual>
    <collision>
      <origin xyz="0 0 0.055" rpy="0 1.57 0"/>
      <geometry>
        <cylinder radius="0.0253" length="0.011"/>
      </geometry>
    </collision>
  </link>
  <joint name="arm_right_7_link_wrist_right_ft_tool_link_joint" type="fixed">
    <parent link="arm_right_7_link"/>
    <child link="wrist_right_ft_tool_link"/>
    <origin xyz="0 0 0.067725" rpy="2.356193 -1.570792 2.356193"/>
  </joint>
  <link name="right">
    <visual>
      <origin xyz="0 0 0" rpy="0 0 0"/>
      <geometry>
        <cylinder radius="0.0227" length="0.028"/>
      </geometry>
    </visual>
    <collision>
      <origin xyz="0 0 0" rpy="0 0 0"/>
      <geometry>
        <cylinder radius="0.0227" length="0.028"/>
      </geometry>
    </collision>
    <visual>
      <origin xyz="0.029 -0.01834 -0.046" rpy="0 0 0.59"/>
      <geometry>
        <box size="0.04 0.0217 0.105"/>
      </geometry>
    </visual>
    <collision>
      <origin xyz="0.029 -0.01834 -0.046" rpy="0 0 0.59"/>
      <geometry>
        <box size="0.04 0.0217 0.105"/>
      </geometry>
    </collision>
    <visual>
      <origin xyz="-0.029 0.01834 -0.046" rpy="0 0 0.59"/>
      <geometry>
        <box size="0.04 0.0217 0.105"/>
      </geometry>
    </visual>
    <collision>
      <origin xyz="-0.029 0.01834 -0.046" rpy="0 0 0.59"/>
      <geometry>
        <box size="0.04 0.0217 0.105"/>
      </geometry>
    </collision>
    <visual>
      <origin xyz="0.0172 0.0109 -0.046" rpy="3.141593 -1.570793 3.141593"/>
      <geometry>
        <box size="0.106 0.056 0.071"/>
      </geometry>
    </visual>
    <collision>
      <origin xyz="0.0172 0.0109 -0.046" rpy="3.141593 -1.570793 3.141593"/>
      <geometry>
        <box size="0.106 0.056 0.071"/>
      </geometry>
    </collision>
    <visual>
      <origin xyz="-0.0172 -0.0109 -0.046" rpy="3.141593 -1.570793 3.141593"/>
      <geometry>
        <box size="0.106 0.056 0.071"/>
      </geometry>
    </visual>
    <collision>
      <origin xyz="-0.0172 -0.0109 -0.046" rpy="3.141593 -1.570793 3.141593"/>
      <geometry>
        <box size="0.106 0.056 0.071"/>
      </geometry>
    </collision>
  </link>
  <joint name="wrist_right_ft_tool_link_right_joint" type="fixed">
    <parent link="wrist_right_ft_tool_link"/>
    <child link="right"/>
    <origin xyz="0.016 0 0" rpy="-2.356193 1.570792 0.785393"/>
  </joint>
  <joint name="right_hand_gripper_right_finger_joint" type="prismatic">
    <parent link="right"/>
    <child link="gripper_right_finger_link_3"/>
    <axis xyz="1 0 0"/>
    <origin xyz="0 0 0" rpy="0 0 0"/>
    <limit effort="16" lower="0" upper="0.045" velocity="0.05"/>
  </joint>
  <link name="gripper_right_finger_link_3">
    <visual>
      <origin xyz="0.004001 0 -0.1741" rpy="0 0 0"/>
      <geometry>
        <box size="0.0076 0.05091 0.08982"/>
      </geometry>
    </visual>
    <collision>
      <origin xyz="0.004001 0 -0.1741" rpy="0 0 0"/>
      <geometry>
        <box size="0.0076 0.05091 0.08982"/>
      </geometry>
    </collision>
    <visual>
      <origin xyz="0.004901 0.0153 -0.1208" rpy="0 0 0"/>
      <geometry>
        <box size="0.0055 0.0295 0.018"/>
      </geometry>
    </visual>
    <collision>
      <origin xyz="0.004901 0.0153 -0.1208" rpy="0 0 0"/>
      <geometry>
        <box size="0.0055 0.0295 0.018"/>
      </geometry>
    </collision>
    <visual>
      <origin xyz="-0.008499 0.0156 -0.1048" rpy="0 0 0"/>
      <geometry>
        <box size="0.03213 0.02959 0.01487"/>
      </geometry>
    </visual>
    <collision>
      <origin xyz="-0.008499 0.0156 -0.1048" rpy="0 0 0"/>
      <geometry>
        <box size="0.03213 0.02959 0.01487"/>
      </geometry>
    </collision>
  </link>
  <joint name="right_hand_gripper_left_finger_joint" type="prismatic">
    <parent link="right"/>
    <child link="gripper_left_finger_link_4"/>
    <axis xyz="1 0.000093 0"/>
    <origin xyz="0.000001 0 0" rpy="0 0 3.1415"/>
    <limit effort="16" lower="0" upper="0.045" velocity="0.05"/>
  </joint>
  <link name="gripper_left_finger_link_4">
    <visual>
      <origin xyz="0.004 0 -0.1741" rpy="0 0 0"/>
      <geometry>
        <box size="0.0076 0.05091 0.08982"/>
      </geometry>
    </visual>
    <collision>
      <origin xyz="0.004 0 -0.1741" rpy="0 0 0"/>
      <geometry>
        <box size="0.0076 0.05091 0.08982"/>
      </geometry>
    </collision>
    <visual>
      <origin xyz="0.0049 0.0153 -0.1208" rpy="0 0 0"/>
      <geometry>
        <box size="0.0055 0.0295 0.018"/>
      </geometry>
    </visual>
    <collision>
      <origin xyz="0.0049 0.0153 -0.1208" rpy="0 0 0"/>
      <geometry>
        <box size="0.0055 0.0295 0.018"/>
      </geometry>
    </collision>
    <visual>
      <origin xyz="-0.0085 0.0156 -0.1048" rpy="0 0 0"/>
      <geometry>
        <box size="0.03213 0.02959 0.01487"/>
      </geometry>
    </visual>
    <collision>
      <origin xyz="-0.0085 0.0156 -0.1048" rpy="0 0 0"/>
      <geometry>
        <box size="0.03213 0.02959 0.01487"/>
      </geometry>
    </collision>
  </link>
  <link name="cap screw(19)_5">
  </link>
  <joint name="right_cap screw(19)_5_joint" type="fixed">
    <parent link="right"/>
    <child link="cap screw(19)_5"/>
    <origin xyz="0.0415 -0.0029 -0.0004" rpy="3.14159 0 0"/>
  </joint>
  <link name="cap screw(18)_6">
  </link>
  <joint name="right_cap screw(18)_6_joint" type="fixed">
    <parent link="right"/>
    <child link="cap screw(18)_6"/>
    <origin xyz="-0.0415 0.0029 -0.0004" rpy="3.14159 0 0"/>
  </joint>
  <link name="cap screw(17)_7">
  </link>
  <joint name="right_cap screw(17)_7_joint" type="fixed">
    <parent link="right"/>
    <child link="cap screw(17)_7"/>
    <origin xyz="0.0433 0.0315 0.0026" rpy="3.14159 0 0"/>
  </joint>
  <link name="cap screw(16)_8">
  </link>
  <joint name="right_cap screw(16)_8_joint" type="fixed">
    <parent link="right"/>
    <child link="cap screw(16)_8"/>
    <origin xyz="-0.0433 -0.0315 0.0026" rpy="3.14159 0 0"/>
  </joint>
  <link name="cap screw(15)_9">
  </link>
  <joint name="right_cap screw(15)_9_joint" type="fixed">
    <parent link="right"/>
    <child link="cap screw(15)_9"/>
    <origin xyz="0 0.033 0.0026" rpy="3.14159 0 0"/>
  </joint>
  <link name="cap screw(14)_10">
  </link>
  <joint name="right_cap screw(14)_10_joint" type="fixed">
    <parent link="right"/>
    <child link="cap screw(14)_10"/>
    <origin xyz="0 -0.033 0.0026" rpy="3.14159 0 0"/>
  </joint>
  <link name="cap screw(13)_11">
  </link>
  <joint name="right_cap screw(13)_11_joint" type="fixed">
    <parent link="right"/>
    <child link="cap screw(13)_11"/>
    <origin xyz="0.0426 -0.0094 -0.09448" rpy="0 0 0"/>
  </joint>
  <link name="cap screw(12)_12">
  </link>
  <joint name="right_cap screw(12)_12_joint" type="fixed">
    <parent link="right"/>
    <child link="cap screw(12)_12"/>
    <origin xyz="-0.0425 0.0094 -0.0945" rpy="0 0 0"/>
  </joint>
  <link name="cap screw(11)_13">
  </link>
  <joint name="right_cap screw(11)_13_joint" type="fixed">
    <parent link="right"/>
    <child link="cap screw(11)_13"/>
    <origin xyz="-0.0477 -0.008 -0.0108" rpy="3.141593 1.570793 3.141593"/>
  </joint>
  <link name="cap screw(10)_14">
  </link>
  <joint name="right_cap screw(10)_14_joint" type="fixed">
    <parent link="right"/>
    <child link="cap screw(10)_14"/>
    <origin xyz="-0.0477 -0.008 -0.043" rpy="3.141593 1.570793 3.141593"/>
  </joint>
  <link name="cap screw(9)_15">
  </link>
  <joint name="right_cap screw(9)_15_joint" type="fixed">
    <parent link="right"/>
    <child link="cap screw(9)_15"/>
    <origin xyz="-0.0477 -0.008 -0.075" rpy="3.141593 1.570793 3.141593"/>
  </joint>
  <link name="cap screw(8)_16">
  </link>
  <joint name="right_cap screw(8)_16_joint" type="fixed">
    <parent link="right"/>
    <child link="cap screw(8)_16"/>
    <origin xyz="-0.0477 0.008 -0.075" rpy="3.141593 1.570793 3.141593"/>
  </joint>
  <link name="cap screw(7)_17">
  </link>
  <joint name="right_cap screw(7)_17_joint" type="fixed">
    <parent link="right"/>
    <child link="cap screw(7)_17"/>
    <origin xyz="-0.0477 0.008 -0.043" rpy="3.141593 1.570793 3.141593"/>
  </joint>
  <link name="cap screw(6)_18">
  </link>
  <joint name="right_cap screw(6)_18_joint" type="fixed">
    <parent link="right"/>
    <child link="cap screw(6)_18"/>
    <origin xyz="-0.0477 0.008 -0.0108" rpy="3.141593 1.570793 3.141593"/>
  </joint>
  <link name="cap screw(5)_19">
  </link>
  <joint name="right_cap screw(5)_19_joint" type="fixed">
    <parent link="right"/>
    <child link="cap screw(5)_19"/>
    <origin xyz="0.0477 -0.008 -0.0108" rpy="3.141593 -1.570793 3.141593"/>
  </joint>
  <link name="cap screw(4)_20">
  </link>
  <joint name="right_cap screw(4)_20_joint" type="fixed">
    <parent link="right"/>
    <child link="cap screw(4)_20"/>
    <origin xyz="0.0477 -0.008 -0.043" rpy="3.141593 -1.570793 3.141593"/>
  </joint>
  <link name="cap screw(3)_21">
  </link>
  <joint name="right_cap screw(3)_21_joint" type="fixed">
    <parent link="right"/>
    <child link="cap screw(3)_21"/>
    <origin xyz="0.0477 -0.008 -0.075" rpy="3.141593 -1.570793 3.141593"/>
  </joint>
  <link name="cap screw(2)_22">
  </link>
  <joint name="right_cap screw(2)_22_joint" type="fixed">
    <parent link="right"/>
    <child link="cap screw(2)_22"/>
    <origin xyz="0.0477 0.008 -0.075" rpy="3.141593 -1.570793 3.141593"/>
  </joint>
  <link name="cap screw(1)_23">
  </link>
  <joint name="right_cap screw(1)_23_joint" type="fixed">
    <parent link="right"/>
    <child link="cap screw(1)_23"/>
    <origin xyz="0.0477 0.008 -0.043" rpy="3.141593 -1.570793 3.141593"/>
  </joint>
  <link name="cap screw_24">
  </link>
  <joint name="right_cap screw_24_joint" type="fixed">
    <parent link="right"/>
    <child link="cap screw_24"/>
    <origin xyz="0.0477 0.008 -0.0108" rpy="3.141593 -1.570793 3.141593"/>
  </joint>
</robot>
